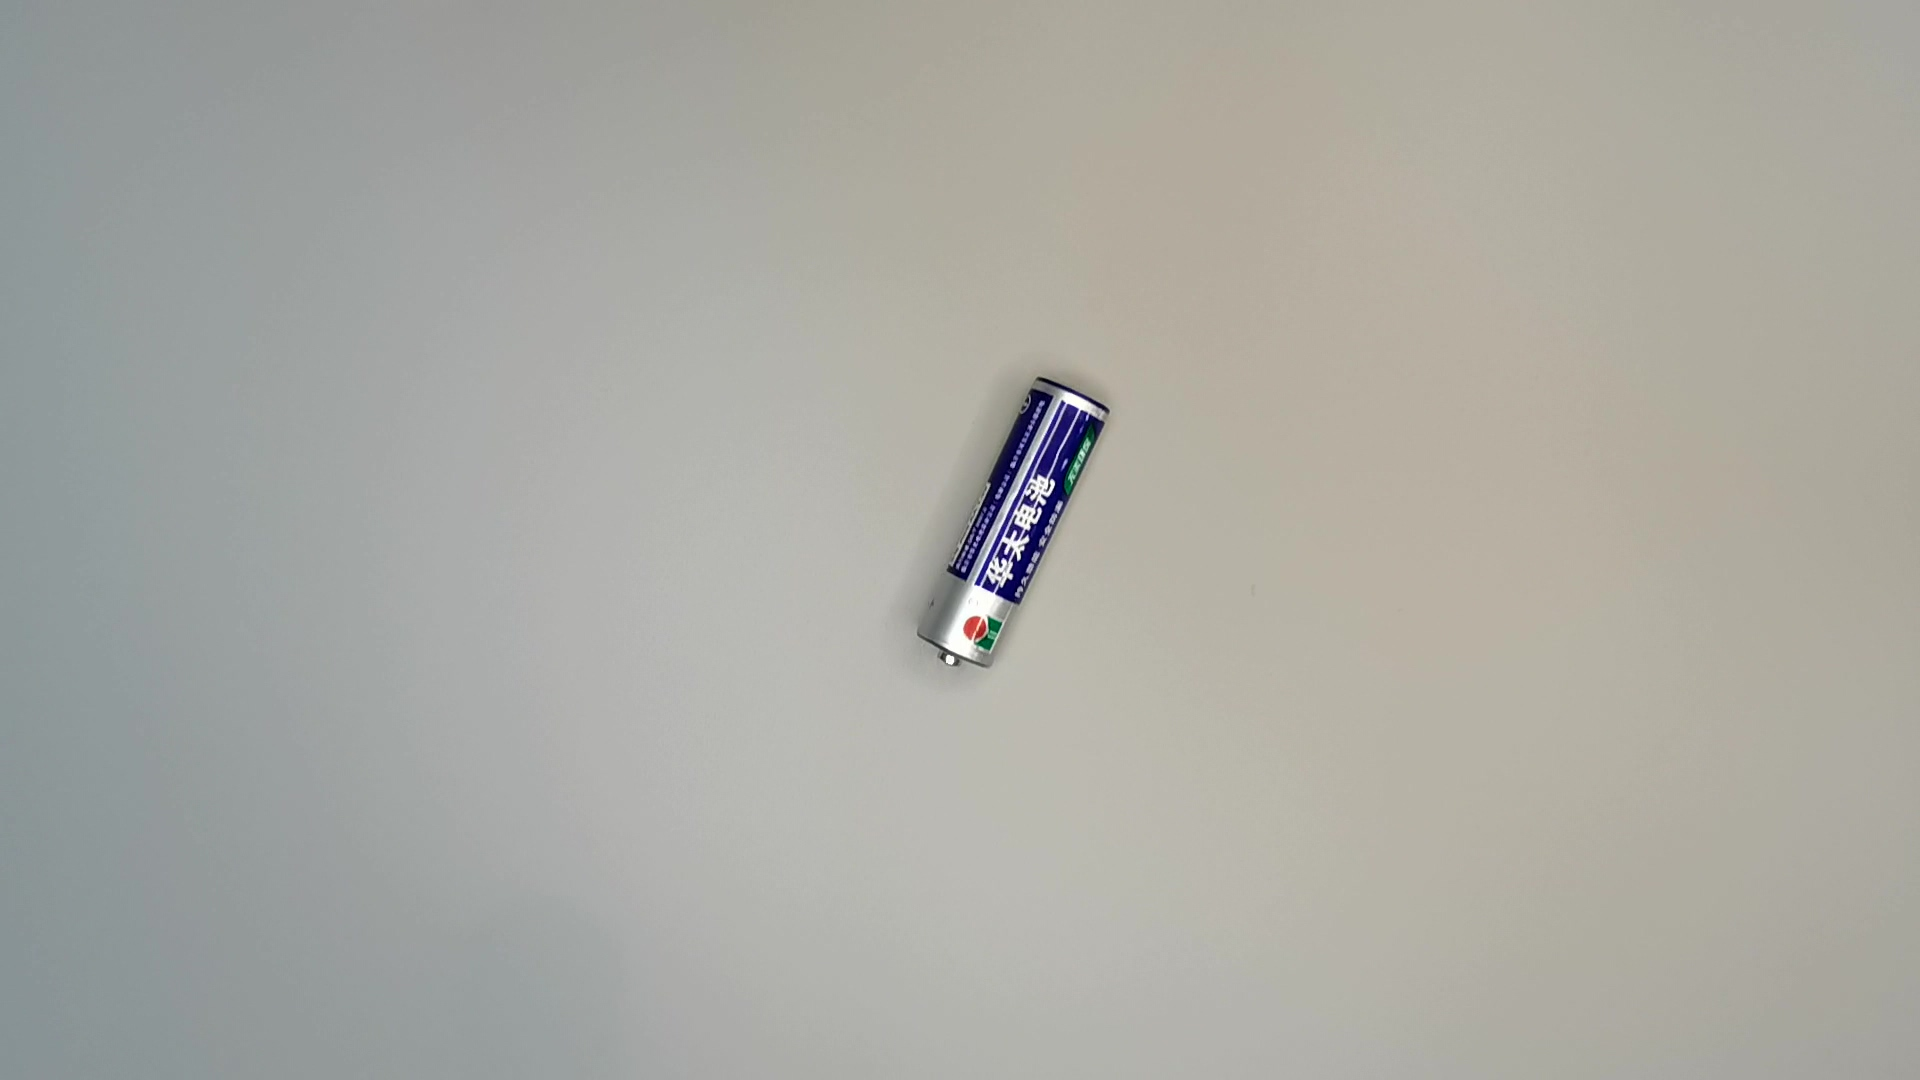battery: (911, 364, 1120, 682)
